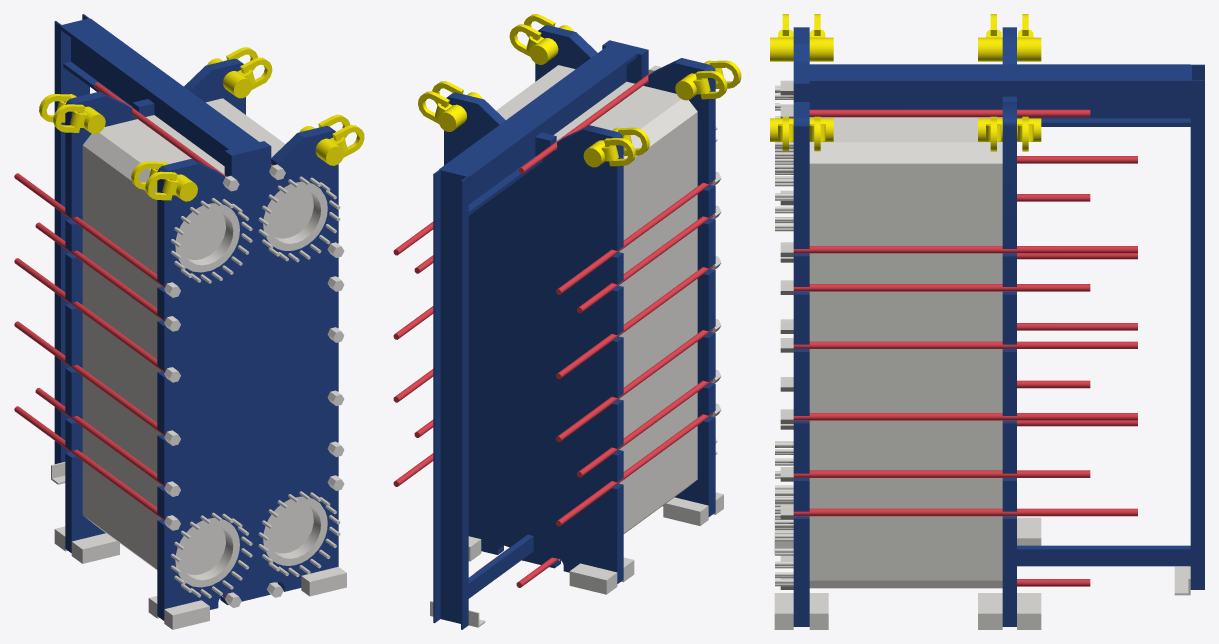
The model's file is HVAC_Heat-Exchanger_Alfa-Laval_Alfa-Laval-T45.fbx.
3 views of the same model, side by side, from view 1: azimuth 30°, elevation 25°; view 2: azimuth 150°, elevation 25°; view 3: azimuth 270°, elevation 25° (orthographic). The views are drawn at different scales.
Parts seen in each view (by area): view 1: L_20ea5424_6e76_463a_a9a7_6a8618ab3245_I3, L_3807ebf7_ccdf_4521_b72d_69fbecacf36e_I6, L_8dc1eea1_a72e_4271_997e_4fa5cf3de57c_I17, L_f4585978_6d9e_4e16_a8f7_c727437497d6_I23, L_726214f9_5d5d_4e06_9136_cd39c09943dc_I12, L_2c1c9a12_37b2_4a8b_841c_917191ef50aa_I5, L_7aca4e8b_48e7_4261_adba_e7af3e2546dc_I14, L_630071b0_1c27_47e7_ad1b_c83c174627d2_I9, L_3cea8339_7bc9_40b3_a47f_3b12b965621a_I7, L_fa440c6f_9ff6_4513_8b8d_8551a6660b11_I25, L_0599cfda_3627_4b00_8c5b_a7b60b7193a5_I1, L_249475d2_474b_463b_9962_f3725f8373a0_I4 (+8 smaller); view 2: L_8dc1eea1_a72e_4271_997e_4fa5cf3de57c_I17, L_3807ebf7_ccdf_4521_b72d_69fbecacf36e_I6, L_2c1c9a12_37b2_4a8b_841c_917191ef50aa_I5, L_20ea5424_6e76_463a_a9a7_6a8618ab3245_I3, L_726214f9_5d5d_4e06_9136_cd39c09943dc_I12, L_f4585978_6d9e_4e16_a8f7_c727437497d6_I23, L_b7e916fb_77b6_485a_8c42_247d21017efd_I21, L_dbdd61ed_3e28_43b8_b6ed_7c121b3ec944_I22, L_adceaca8_8dc1_4e74_a72d_b00f87238660_I18, L_74c28e50_97ee_4eec_80f9_793067166148_I13, L_ae779b8c_e8cb_4506_bdc1_c321a4e4be12_I19, L_7e2fc280_10ec_4d53_9181_9280cbd84896_I15 (+2 smaller); view 3: L_3807ebf7_ccdf_4521_b72d_69fbecacf36e_I6, L_726214f9_5d5d_4e06_9136_cd39c09943dc_I12, L_f4585978_6d9e_4e16_a8f7_c727437497d6_I23, L_2c1c9a12_37b2_4a8b_841c_917191ef50aa_I5, L_20ea5424_6e76_463a_a9a7_6a8618ab3245_I3, L_8dc1eea1_a72e_4271_997e_4fa5cf3de57c_I17, L_7aca4e8b_48e7_4261_adba_e7af3e2546dc_I14, L_b7e916fb_77b6_485a_8c42_247d21017efd_I21, L_630071b0_1c27_47e7_ad1b_c83c174627d2_I9, L_adceaca8_8dc1_4e74_a72d_b00f87238660_I18, L_ae779b8c_e8cb_4506_bdc1_c321a4e4be12_I19, L_7e2fc280_10ec_4d53_9181_9280cbd84896_I15 (+3 smaller).
Part boxes in pixels (box(x1,y1,x2,y2)): L_20ea5424_6e76_463a_a9a7_6a8618ab3245_I3: box(157, 125, 338, 620); L_3807ebf7_ccdf_4521_b72d_69fbecacf36e_I6: box(82, 98, 313, 574); L_8dc1eea1_a72e_4271_997e_4fa5cf3de57c_I17: box(65, 58, 245, 552); L_f4585978_6d9e_4e16_a8f7_c727437497d6_I23: box(60, 18, 258, 165); L_726214f9_5d5d_4e06_9136_cd39c09943dc_I12: box(14, 82, 272, 597); L_2c1c9a12_37b2_4a8b_841c_917191ef50aa_I5: box(54, 14, 89, 463); L_7aca4e8b_48e7_4261_adba_e7af3e2546dc_I14: box(170, 176, 340, 598); L_630071b0_1c27_47e7_ad1b_c83c174627d2_I9: box(164, 164, 344, 607); L_3cea8339_7bc9_40b3_a47f_3b12b965621a_I7: box(263, 496, 327, 565); L_fa440c6f_9ff6_4513_8b8d_8551a6660b11_I25: box(263, 181, 327, 250); L_0599cfda_3627_4b00_8c5b_a7b60b7193a5_I1: box(175, 518, 239, 587); L_249475d2_474b_463b_9962_f3725f8373a0_I4: box(175, 203, 239, 272); L_8dc1eea1_a72e_4271_997e_4fa5cf3de57c_I17: box(444, 92, 623, 583); L_3807ebf7_ccdf_4521_b72d_69fbecacf36e_I6: box(496, 65, 697, 533); L_2c1c9a12_37b2_4a8b_841c_917191ef50aa_I5: box(433, 169, 533, 629); L_20ea5424_6e76_463a_a9a7_6a8618ab3245_I3: box(535, 25, 715, 516); L_726214f9_5d5d_4e06_9136_cd39c09943dc_I12: box(393, 72, 712, 587); L_f4585978_6d9e_4e16_a8f7_c727437497d6_I23: box(439, 46, 637, 215); L_b7e916fb_77b6_485a_8c42_247d21017efd_I21: box(468, 536, 634, 594); L_dbdd61ed_3e28_43b8_b6ed_7c121b3ec944_I22: box(418, 81, 649, 166); L_adceaca8_8dc1_4e74_a72d_b00f87238660_I18: box(435, 92, 632, 167); L_74c28e50_97ee_4eec_80f9_793067166148_I13: box(663, 497, 708, 525); L_ae779b8c_e8cb_4506_bdc1_c321a4e4be12_I19: box(675, 60, 723, 100); L_7e2fc280_10ec_4d53_9181_9280cbd84896_I15: box(526, 25, 573, 64); L_3807ebf7_ccdf_4521_b72d_69fbecacf36e_I6: box(809, 117, 1002, 588); L_726214f9_5d5d_4e06_9136_cd39c09943dc_I12: box(793, 109, 1137, 586); L_f4585978_6d9e_4e16_a8f7_c727437497d6_I23: box(809, 64, 1190, 126); L_2c1c9a12_37b2_4a8b_841c_917191ef50aa_I5: box(1017, 64, 1204, 589); L_20ea5424_6e76_463a_a9a7_6a8618ab3245_I3: box(793, 27, 809, 626); L_8dc1eea1_a72e_4271_997e_4fa5cf3de57c_I17: box(1002, 27, 1016, 626); L_7aca4e8b_48e7_4261_adba_e7af3e2546dc_I14: box(775, 85, 793, 586); L_b7e916fb_77b6_485a_8c42_247d21017efd_I21: box(978, 517, 1041, 629); L_630071b0_1c27_47e7_ad1b_c83c174627d2_I9: box(780, 80, 793, 589); L_adceaca8_8dc1_4e74_a72d_b00f87238660_I18: box(978, 29, 1041, 141); L_ae779b8c_e8cb_4506_bdc1_c321a4e4be12_I19: box(770, 29, 833, 61); L_7e2fc280_10ec_4d53_9181_9280cbd84896_I15: box(770, 118, 833, 141).
Bounding box in the file's own units: 1775 × 2740 × 3570.
